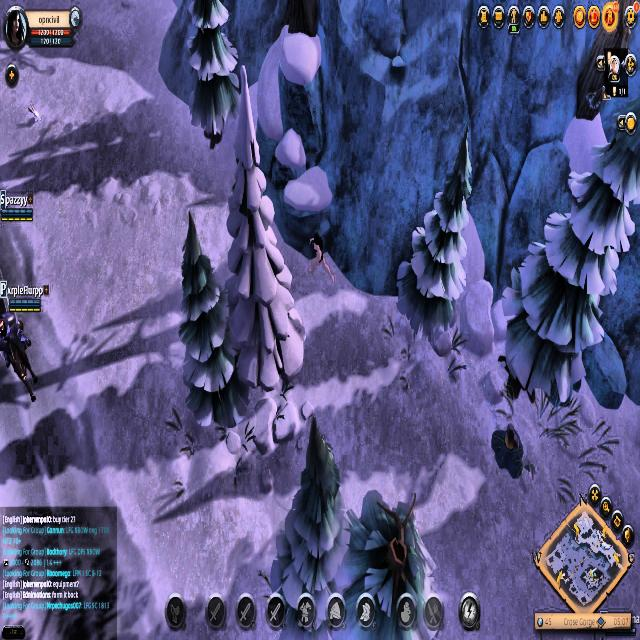copper_ore: (488, 422, 527, 470)
